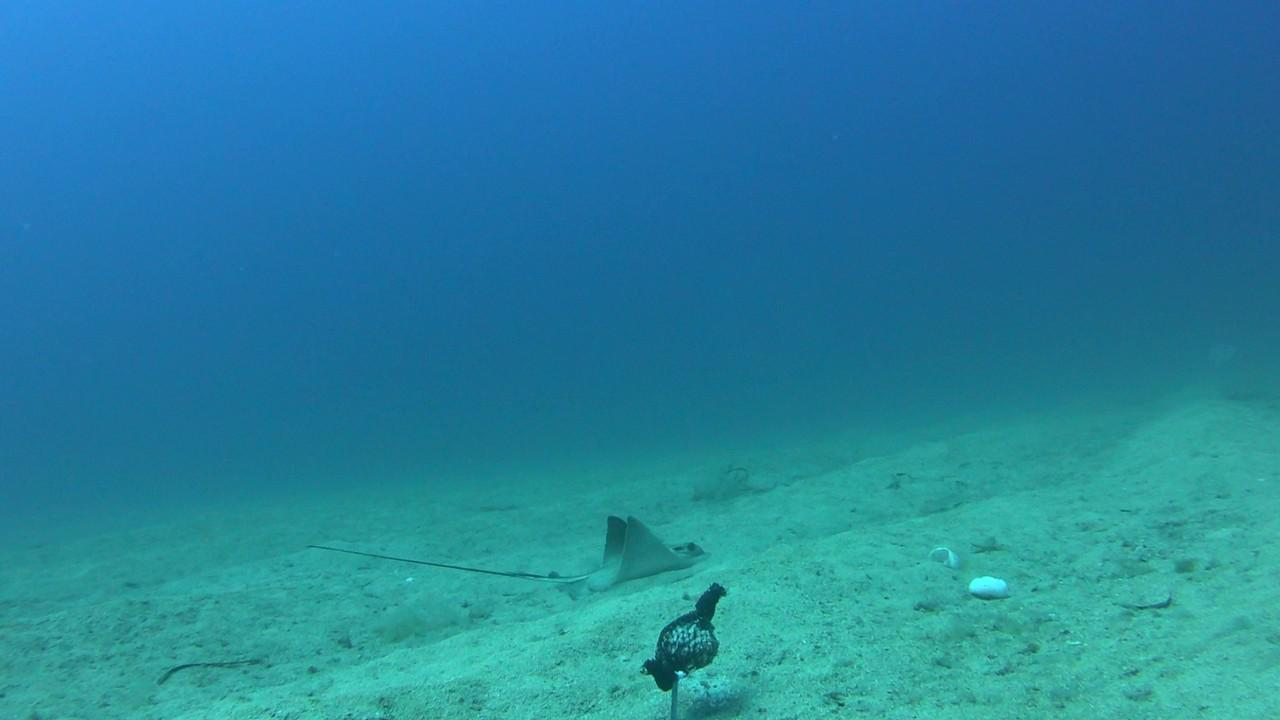myliobatis: (307, 512, 708, 608)
